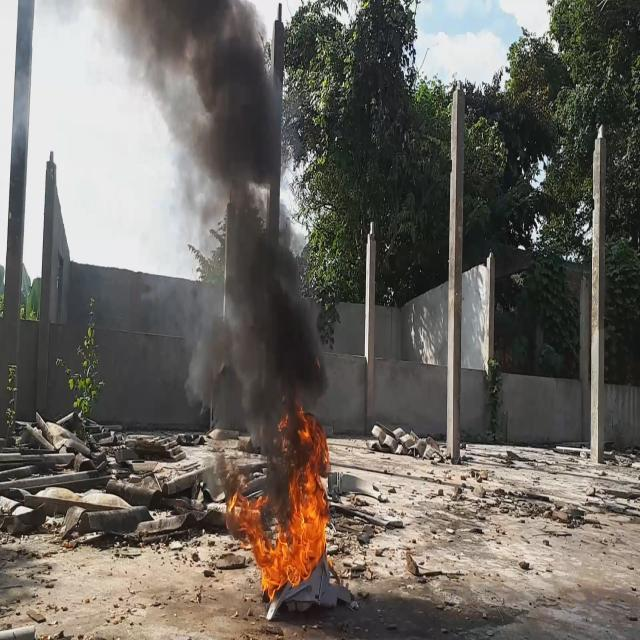Fire: (222, 406, 332, 598)
Smoke: (90, 0, 332, 528)
